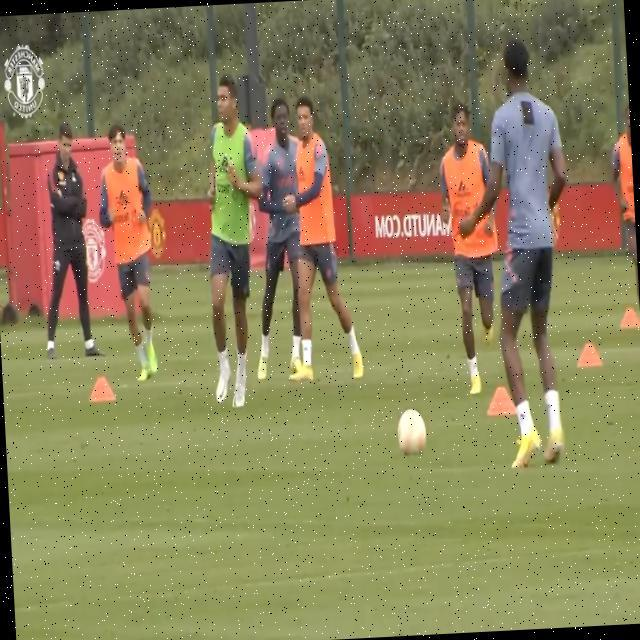Adidas: (455, 176, 472, 199), (217, 151, 232, 177), (116, 186, 130, 208)
